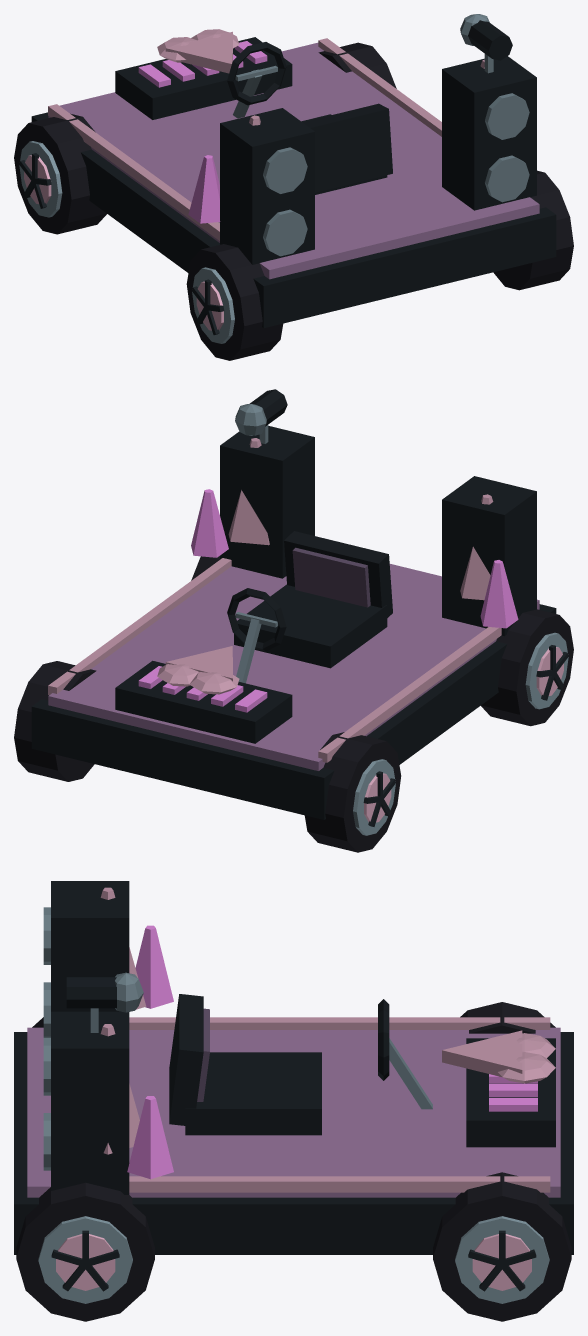
File: kart.glb
3 renders of one model, top to bottom at view 1: azimuth 30°, elevation 25°; view 2: azimuth 150°, elevation 25°; view 3: azimuth 270°, elevation 25°, orthographic. The views are drawn at different scales.
Parts seen in each view (by area): view 1: identity-stage-stage-platform-and-pa-towers, identity-stage-driver-cockpit, wheel-rear-left, wheel-front-left, wheel-rear-right, identity-stage-motif-heart, identity-stage-motif-microphone, identity-stage-motif-crystals, wheel-front-right; view 2: identity-stage-stage-platform-and-pa-towers, identity-stage-driver-cockpit, wheel-front-left, wheel-rear-left, identity-stage-motif-crystals, wheel-front-right, identity-stage-motif-heart, identity-stage-motif-microphone; view 3: identity-stage-stage-platform-and-pa-towers, identity-stage-driver-cockpit, wheel-front-right, wheel-rear-right, identity-stage-motif-crystals, identity-stage-motif-heart, identity-stage-motif-microphone, wheel-front-left.
Boxes of the visible parts, x1,y1,x2,y2 form: identity-stage-stage-platform-and-pa-towers: (31,37,556,328); identity-stage-driver-cockpit: (227,42,392,194); wheel-rear-left: (186,244,283,360); wheel-front-left: (14,113,106,234); wheel-rear-right: (493,170,573,290); identity-stage-motif-heart: (157,29,239,73); identity-stage-motif-microphone: (460,14,512,73); identity-stage-motif-crystals: (188,59,484,223); wheel-front-right: (318,42,396,88); identity-stage-stage-platform-and-pa-towers: (31,426,556,819); identity-stage-driver-cockpit: (227,531,392,683); wheel-front-left: (304,732,401,852); wheel-rear-left: (481,609,573,726); identity-stage-motif-crystals: (191,438,518,628); wheel-front-right: (14,661,96,781); identity-stage-motif-heart: (157,646,239,694); identity-stage-motif-microphone: (235,389,287,443); identity-stage-stage-platform-and-pa-towers: (14,881,573,1254); identity-stage-driver-cockpit: (169,994,432,1135); wheel-front-right: (433,1172,571,1321); wheel-rear-right: (16,1182,154,1321); identity-stage-motif-crystals: (100,887,173,1179); identity-stage-motif-heart: (442,1030,555,1083); identity-stage-motif-microphone: (66,972,143,1032); wheel-front-left: (460,1002,555,1033).
Size of the model in its own units: 2.16 by 1.57 by 2.5.
